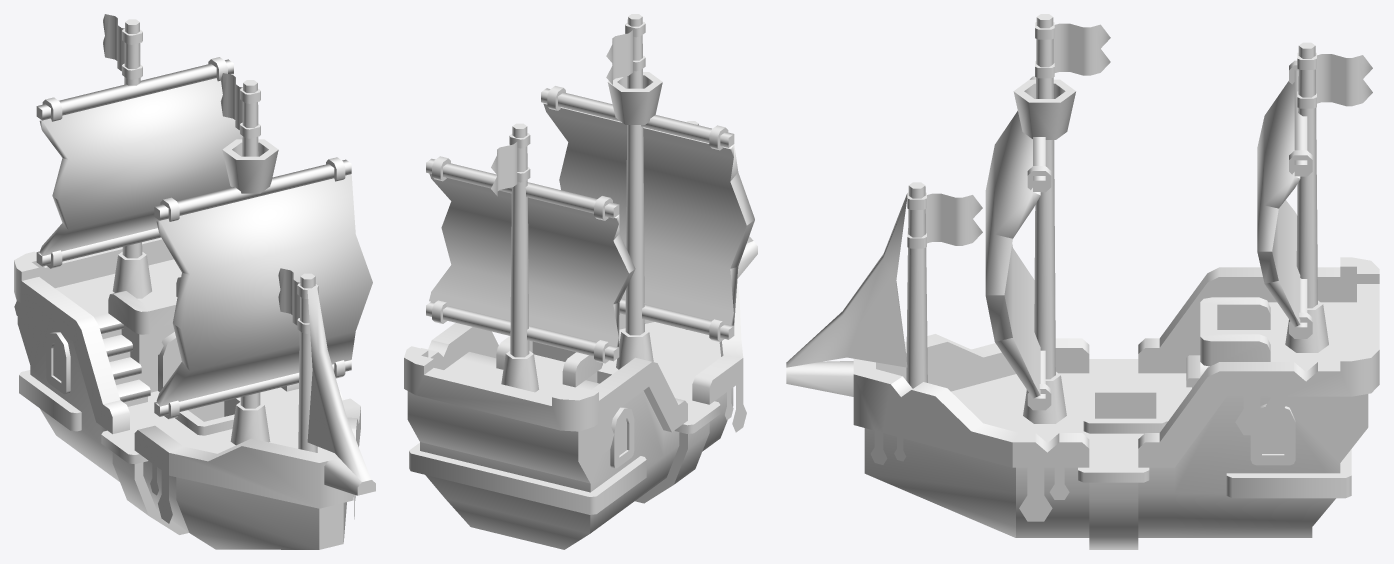
The model's file is ship-ghost.glb.
3 renders of one model, left to right at view 1: azimuth 30°, elevation 25°; view 2: azimuth 150°, elevation 25°; view 3: azimuth 270°, elevation 25°, orthographic. The views are drawn at different scales.
Visible parts, largest first — view 1: ship-ghost, sail-a, sail-b, flag-b, flag-c, flag-a; view 2: ship-ghost, sail-a, sail-b, flag-c, flag-b; view 3: ship-ghost, sail-a, sail-b, flag-b, flag-a, flag-c.
Boxes of the visible parts, box(x1,y1,x2,y2) form: ship-ghost: box(14, 19, 375, 549); sail-a: box(154, 157, 372, 419); sail-b: box(36, 57, 242, 268); flag-b: box(220, 73, 260, 138); flag-c: box(103, 14, 142, 79); flag-a: box(278, 268, 318, 333); ship-ghost: box(404, 14, 757, 549); sail-a: box(541, 86, 754, 341); sail-b: box(426, 156, 635, 363); flag-c: box(491, 133, 530, 196); flag-b: box(606, 21, 645, 84); ship-ghost: box(786, 14, 1379, 549); sail-a: box(985, 76, 1051, 410); sail-b: box(1257, 60, 1312, 338); flag-b: box(1035, 22, 1110, 78); flag-a: box(907, 192, 982, 248); flag-c: box(1297, 52, 1372, 108).
Bounding box in the file's own units: 4.8 × 9.96 × 10.6.
1 material, 1 textured.
